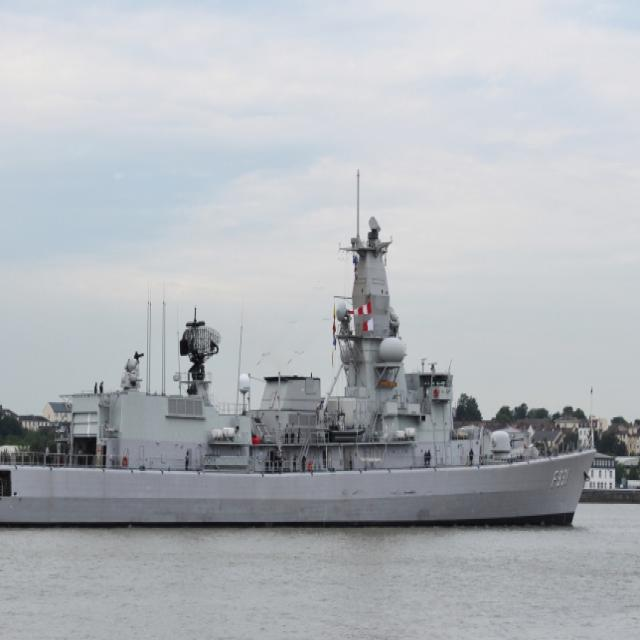Fragata: (1, 172, 600, 527)
